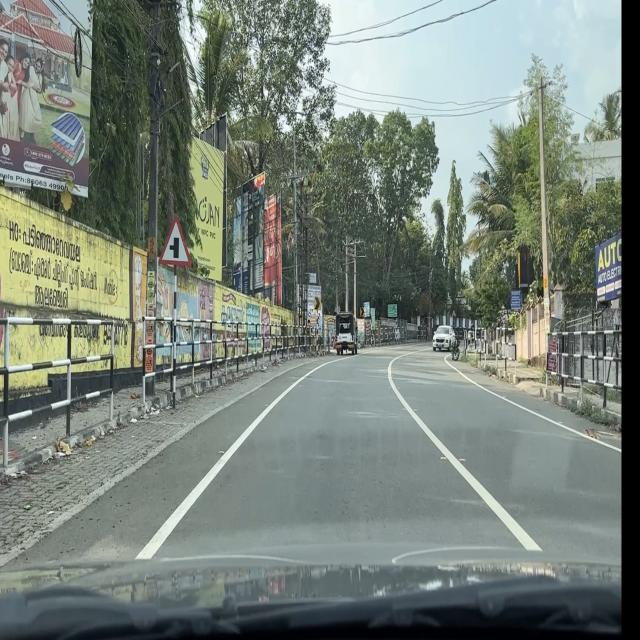GENERAL: (388, 304, 397, 317)
SIDE_ROAD_LEFT: (158, 215, 192, 267)
TURN_RIGHT: (314, 297, 321, 310), (360, 307, 364, 317)
